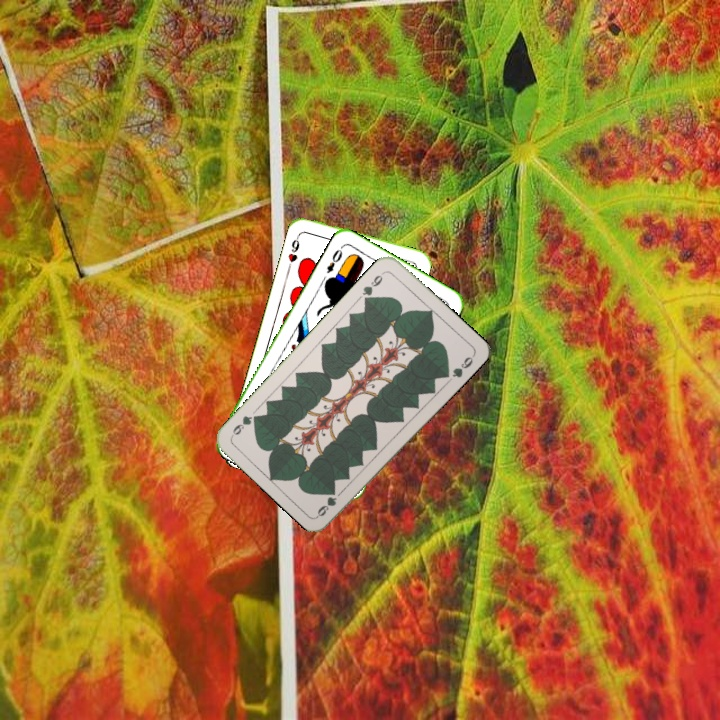EO: (322, 245, 345, 276)
G9: (358, 267, 388, 304), (313, 488, 339, 519)
H9: (284, 230, 303, 270)
